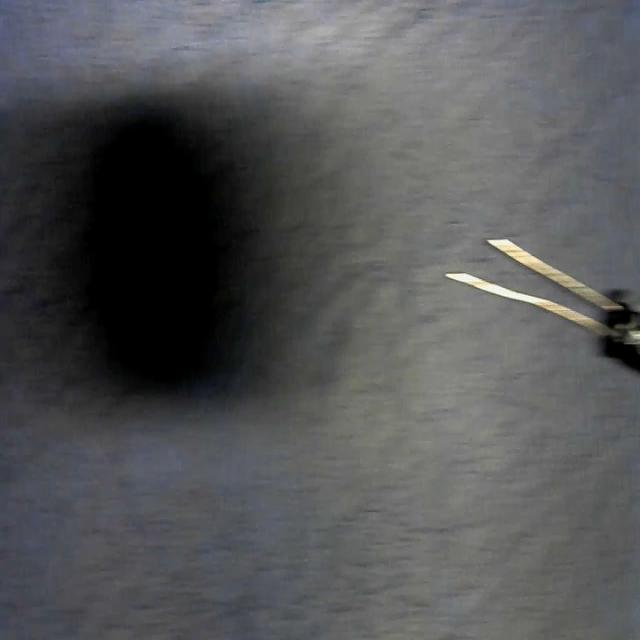capacitor: (449, 235, 640, 374)
